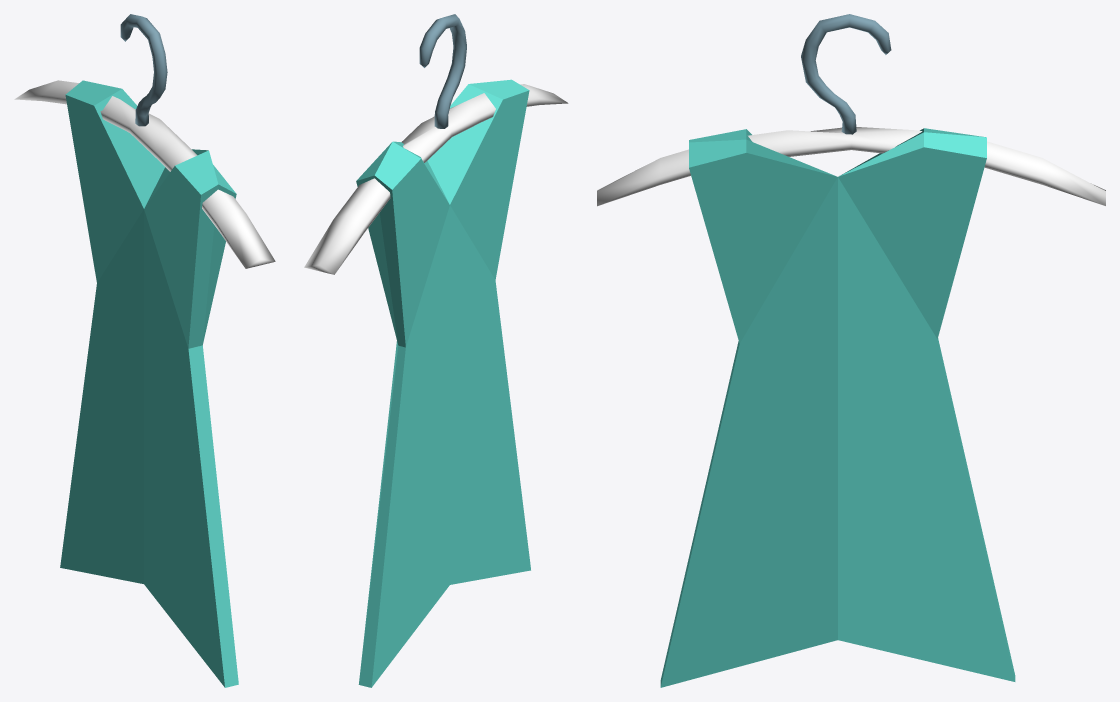
Rendered from shirt2.fbx.
3 renders of one model, left to right at view 1: azimuth 30°, elevation 25°; view 2: azimuth 150°, elevation 25°; view 3: azimuth 270°, elevation 25°, orthographic. The views are drawn at different scales.
Visible parts, largest first — view 1: Cube.012, Cube.013; view 2: Cube.012, Cube.013; view 3: Cube.012, Cube.013.
Part boxes in pixels (x1,y1,x2,y2): Cube.012: [60, 80, 238, 687]; Cube.013: [14, 14, 275, 268]; Cube.012: [356, 79, 530, 687]; Cube.013: [304, 14, 568, 274]; Cube.012: [660, 128, 1015, 687]; Cube.013: [597, 14, 1105, 206].
Bounding box in the file's own units: 18.75 × 262 × 181.
